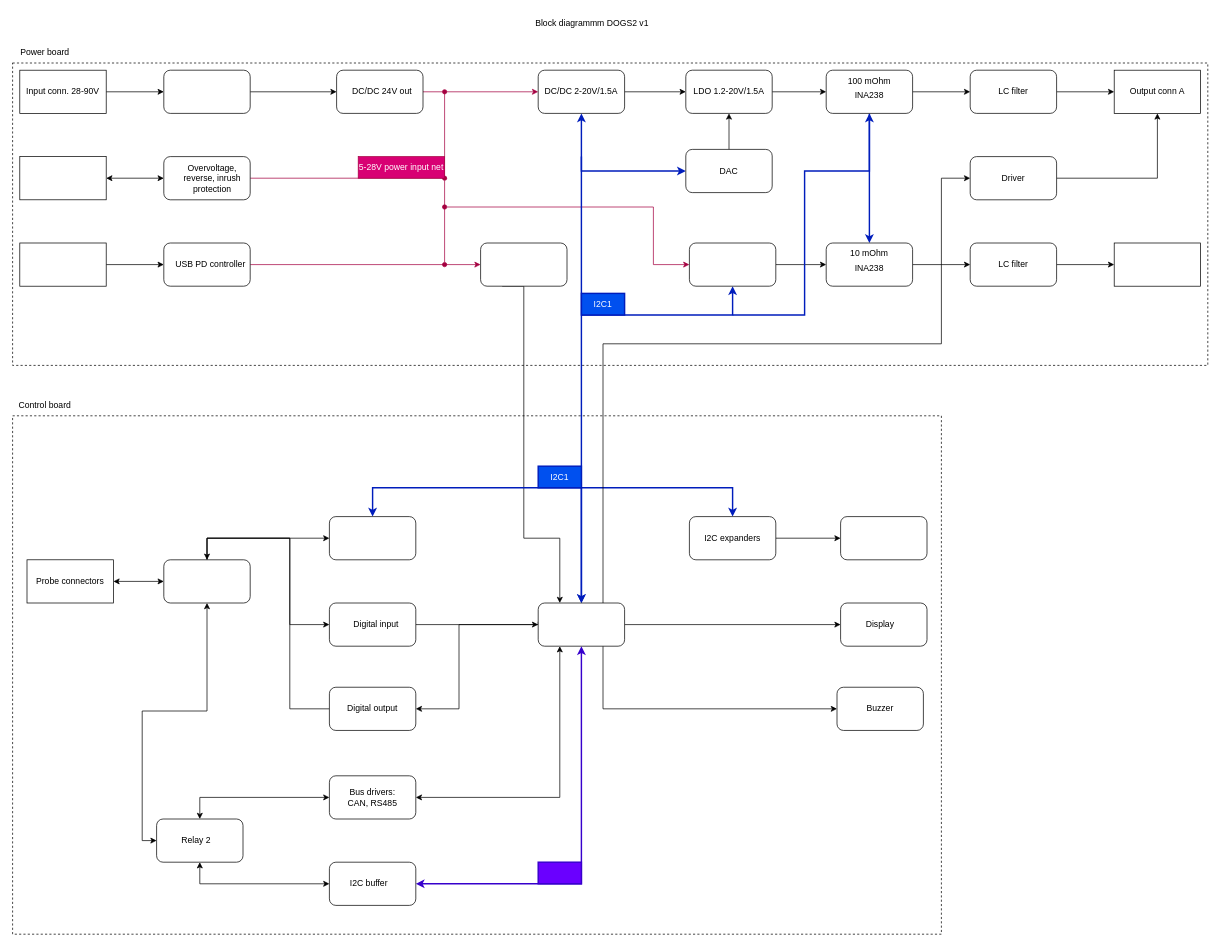
Image size: 1220x947. Some labels were removed from this diagram. The shapes that lost their labels are listed below. From the top down, each one's box as (x1, y1, x2, y2) in pixels, then its label:
(163, 69, 250, 113): Reverse, inrush protection
(19, 156, 106, 200): Input conn. 5-28V
(19, 242, 106, 286): Input conn. USB TypeC
(480, 242, 567, 286): DC/DC 3.3V/0.5A
(689, 242, 776, 286): DC/DC 3-48V/3A
(1113, 242, 1201, 286): Output conn B
(329, 516, 416, 560): Analog input + ADC
(840, 516, 927, 560): Encoder, buttons
(163, 559, 250, 603): Relay 1
(537, 602, 625, 646): MCU
(537, 861, 582, 884): I2C2
